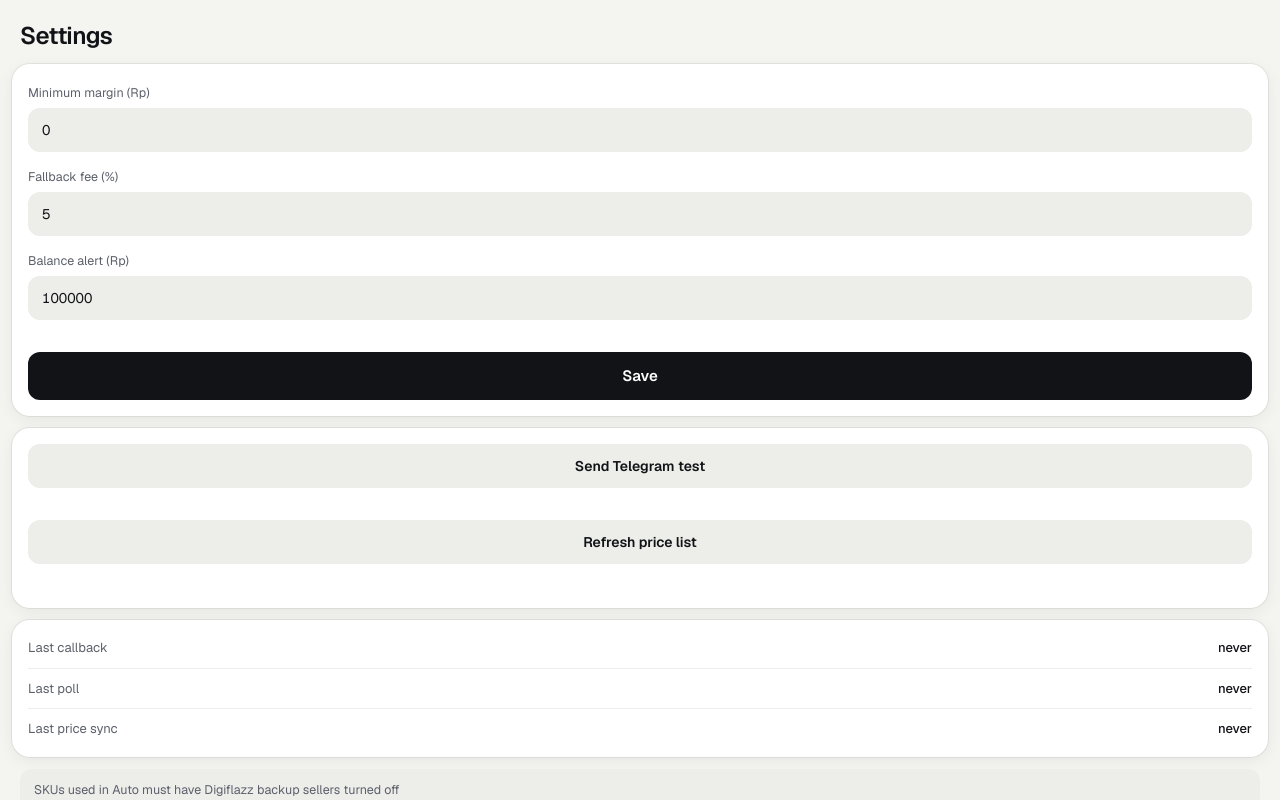
Test: Settings › refreshPriceListShowsDigiflazzError
Expected: the number field labelled "Balance alert (Rp)" holds "100000", [28,276,1252,320]
Click the button "Refresh price list". click: (640, 542)
box: [28,520,1252,564]
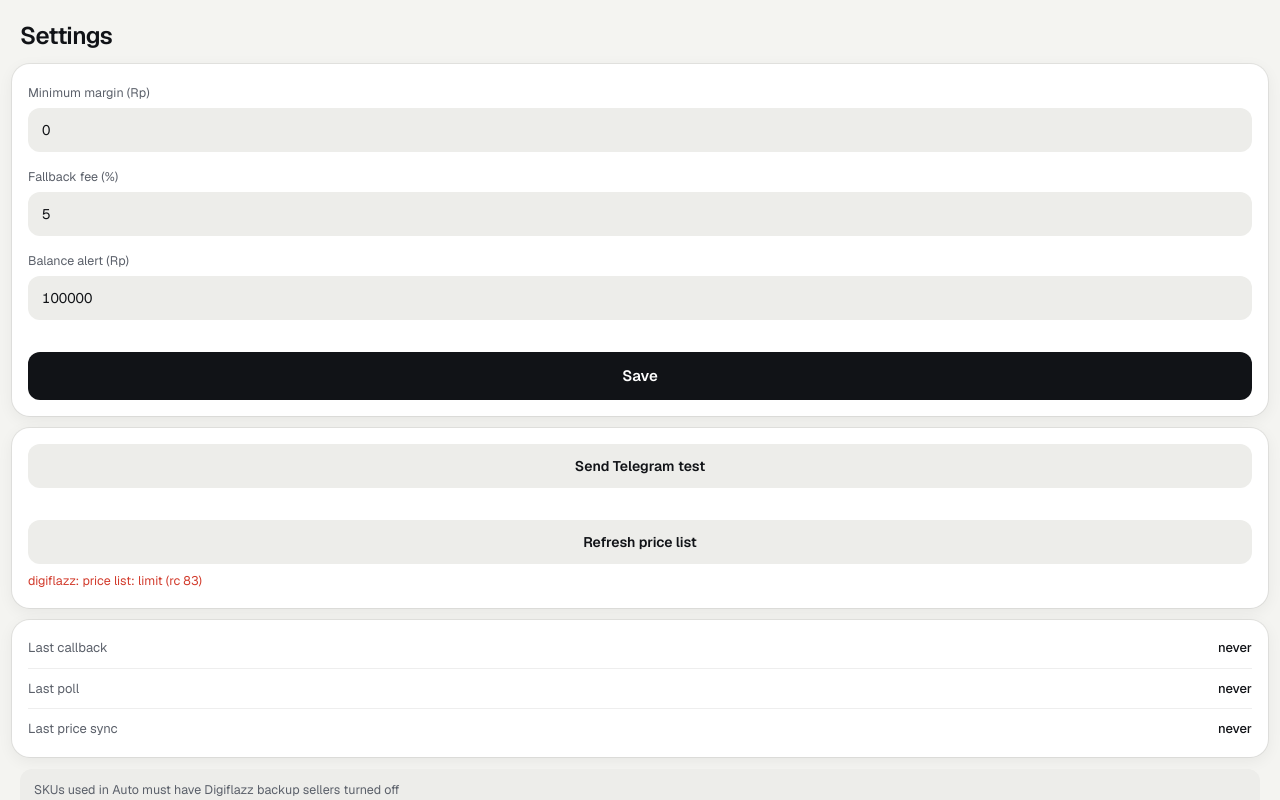
Expected: the text "digiflazz: price list: limit (rc 83)" is shown, [28,572,202,589]
